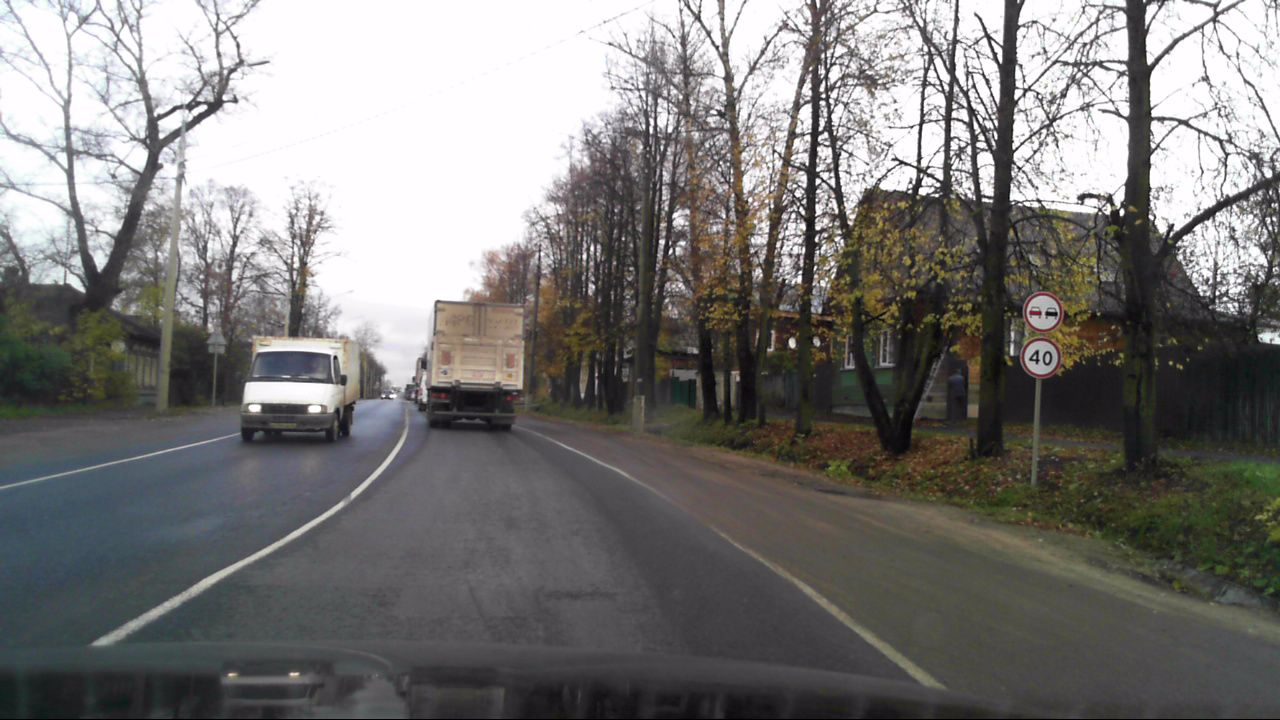speed_warning_40: (1019, 337, 1060, 379)
